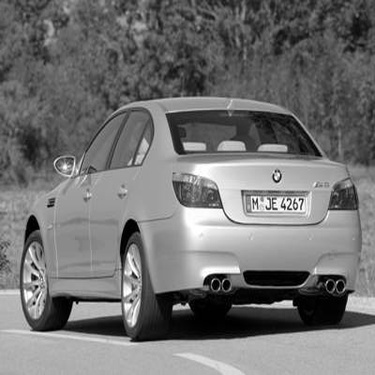car: (11, 86, 363, 346)
